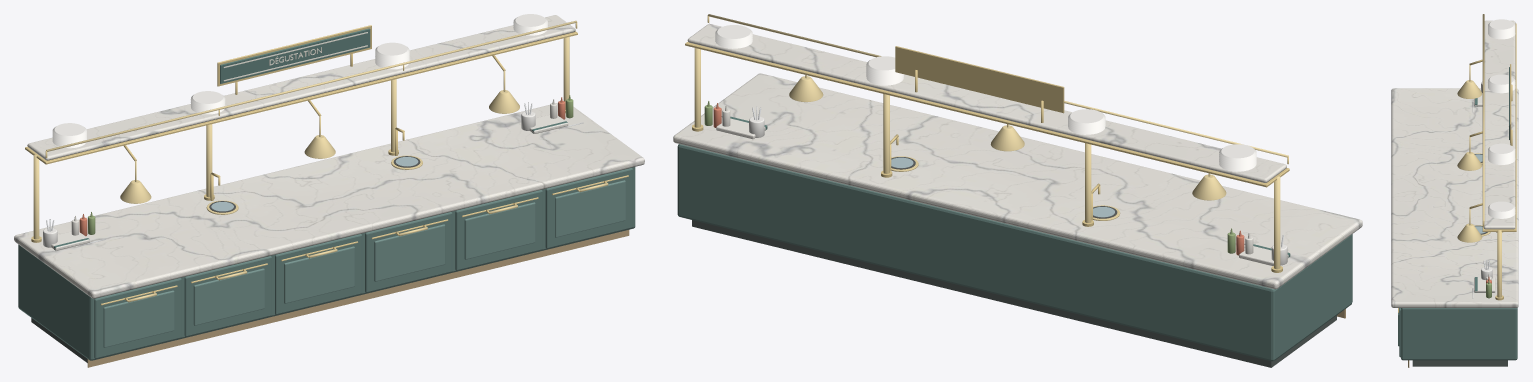
The model's file is tasting.glb.
3 renders of one model, left to right at view 1: azimuth 30°, elevation 25°; view 2: azimuth 150°, elevation 25°; view 3: azimuth 270°, elevation 25°, orthographic. The views are drawn at different scales.
Visible parts, largest first — view 1: tasting_carrara_back, tasting_green_lacquer, tasting_green_lacquer_panel, tasting_carrara_shelf, tasting_brass_polished, tasting_brass, tasting_bronze, tasting_porcelain, tasting_enamel_plaque, tasting, tasting_linen, tasting_enamel_ivory; view 2: tasting_carrara_back, tasting_green_lacquer, tasting_carrara_shelf, tasting_brass, tasting_brass_polished, tasting_plinth, tasting_porcelain, tasting, tasting_linen; view 3: tasting_carrara_back, tasting_green_lacquer, tasting_carrara_shelf, tasting_brass_polished, tasting_porcelain, tasting_brass, tasting_plinth, tasting_linen, tasting.
Boxes of the visible parts, box(x1,y1,x2,y2) form: tasting_carrara_back: box(14, 103, 644, 298); tasting_green_lacquer: box(18, 167, 635, 360); tasting_green_lacquer_panel: box(103, 180, 625, 347); tasting_carrara_shelf: box(27, 15, 575, 160); tasting_brass_polished: box(33, 20, 608, 302); tasting_brass: box(25, 22, 628, 305); tasting_bronze: box(87, 230, 629, 367); tasting_porcelain: box(43, 14, 547, 247); tasting_enamel_plaque: box(220, 28, 370, 83); tasting: box(71, 95, 573, 236); tasting_linen: box(51, 115, 568, 250); tasting_enamel_ivory: box(223, 32, 367, 81); tasting_carrara_back: box(673, 73, 1362, 289); tasting_green_lacquer: box(677, 144, 1352, 361); tasting_carrara_shelf: box(687, 23, 1286, 182); tasting_brass: box(685, 15, 1289, 272); tasting_brass_polished: box(694, 14, 1288, 269); tasting_plinth: box(692, 220, 1336, 367); tasting_porcelain: box(715, 25, 1287, 265); tasting: box(704, 101, 1253, 255); tasting_linen: box(716, 118, 1288, 265); tasting_carrara_back: box(1391, 88, 1518, 307); tasting_green_lacquer: box(1399, 307, 1517, 360); tasting_carrara_shelf: box(1483, 20, 1515, 229); tasting_brass_polished: box(1457, 14, 1501, 297); tasting_porcelain: box(1481, 19, 1515, 279); tasting_brass: box(1398, 23, 1516, 312); tasting_plinth: box(1412, 360, 1507, 366); tasting_linen: box(1474, 93, 1495, 292); tasting: box(1486, 274, 1491, 298).
Size of the model in its own units: 4.8 by 1.76 by 1.2.
Materials: 20 (2 with a texture image).
